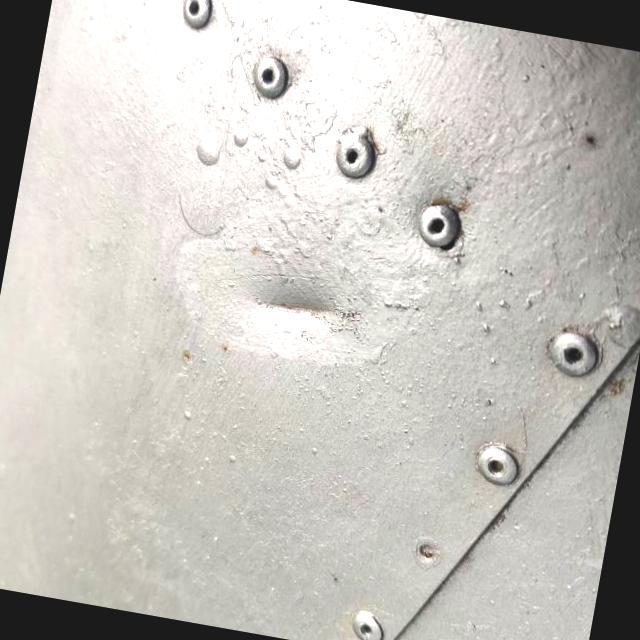dent: (216, 250, 408, 446)
